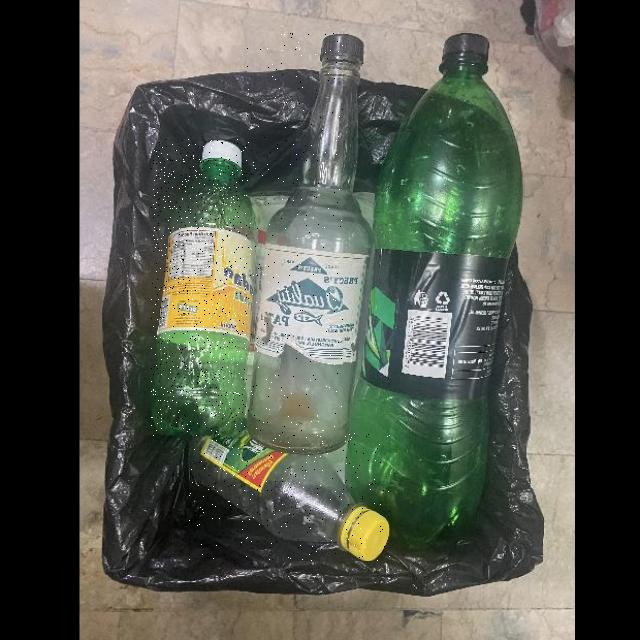glass: (247, 33, 374, 454)
plastic: (344, 31, 524, 544), (152, 139, 257, 436), (189, 433, 390, 560)
